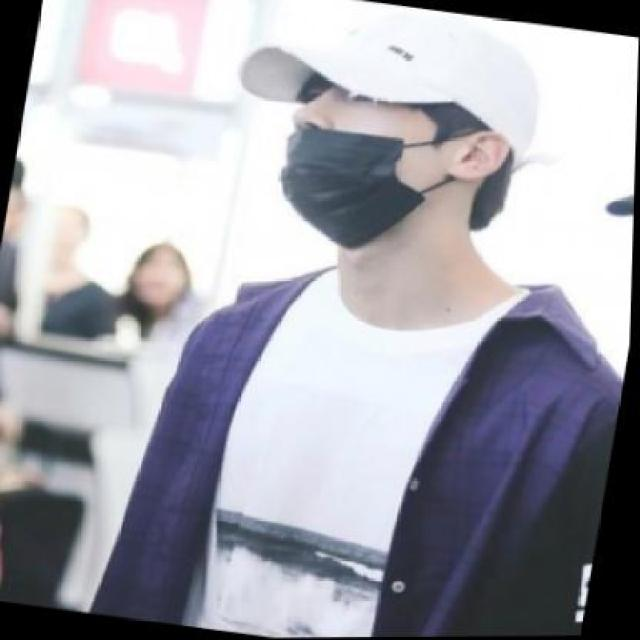hat: (223, 0, 557, 165)
